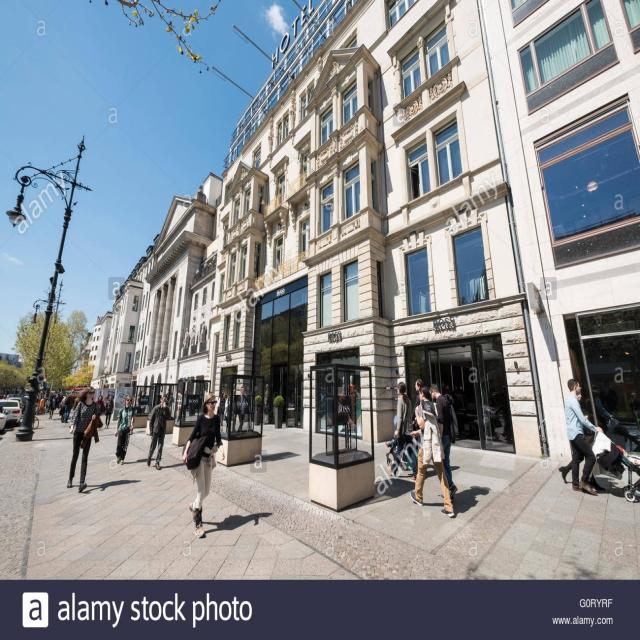body: (252, 370, 360, 435), (181, 391, 226, 538), (408, 383, 456, 517), (441, 378, 513, 449), (562, 378, 604, 497), (414, 460, 492, 518), (70, 456, 189, 494), (64, 385, 104, 494), (428, 383, 461, 502), (589, 371, 632, 450), (386, 380, 418, 483), (558, 386, 589, 484), (196, 508, 280, 538), (146, 393, 171, 471), (114, 394, 137, 466), (39, 388, 81, 423), (236, 385, 247, 432), (412, 378, 425, 417), (136, 390, 150, 422), (103, 394, 115, 430), (216, 391, 228, 426), (223, 392, 231, 435), (165, 388, 175, 420), (94, 394, 106, 416), (182, 390, 189, 423), (384, 433, 396, 449)
